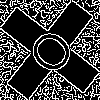O: (25, 25, 86, 85)
